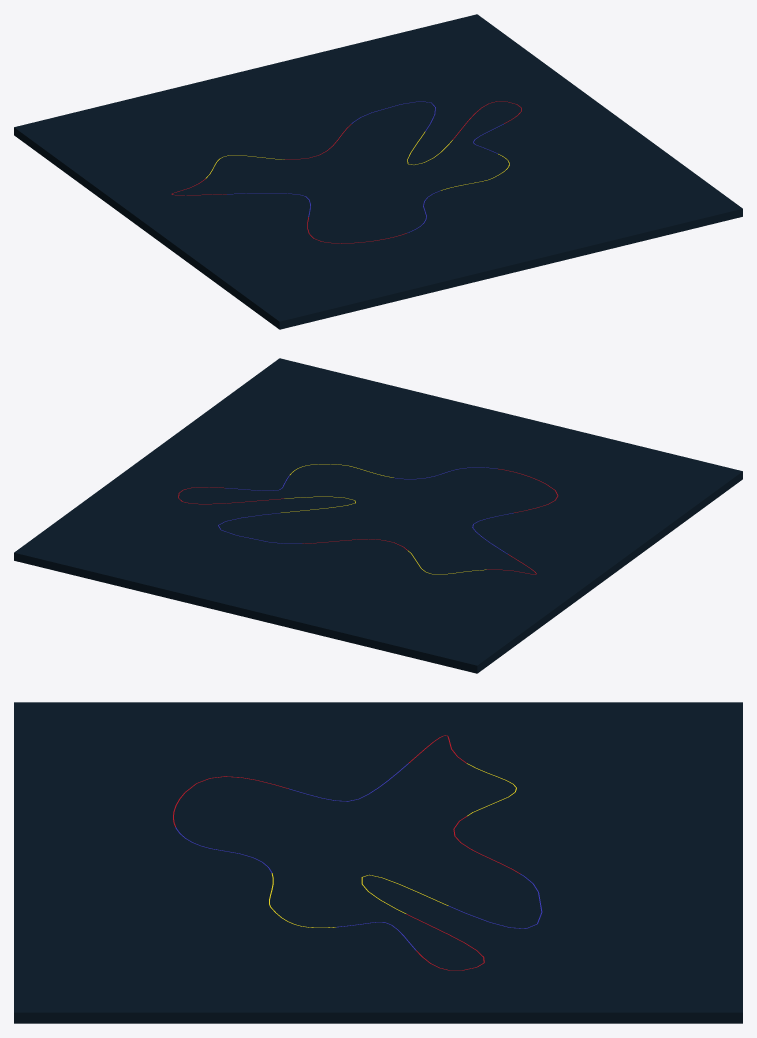
The model's file is world_dark.dae.
3 views of the same model, one above another, from view 1: azimuth 30°, elevation 25°; view 2: azimuth 150°, elevation 25°; view 3: azimuth 270°, elevation 25° (orthographic). The views are drawn at different scales.
Visible parts, largest first — view 1: Cube; view 2: Cube; view 3: Cube.
Boxes of the visible parts, x1=… form: Cube: x1=14, y1=14, x2=742, y2=329; Cube: x1=14, y1=358, x2=742, y2=673; Cube: x1=14, y1=702, x2=742, y2=1023.
Size of the model in its own units: 14.27 by 14.17 by 0.2382.
